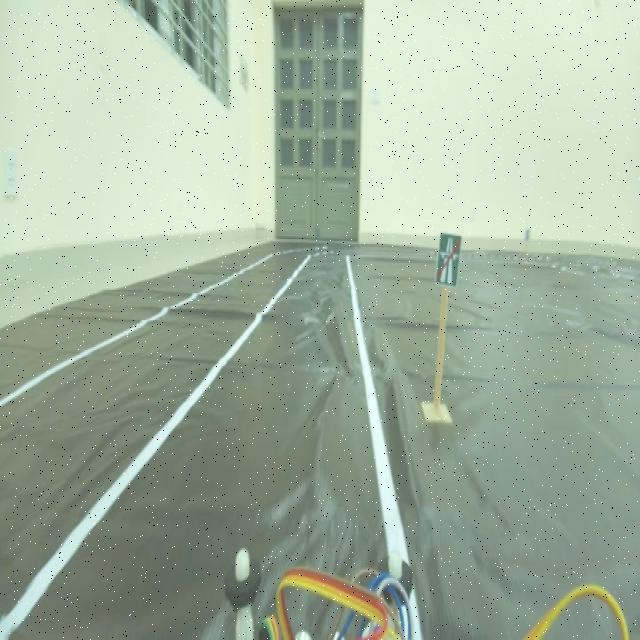highway_exit: (429, 225, 475, 303)
